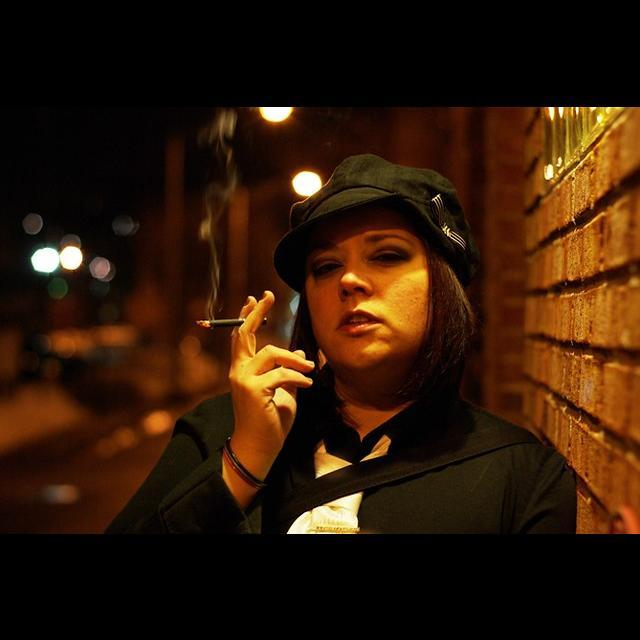rokok: (194, 310, 253, 330)
